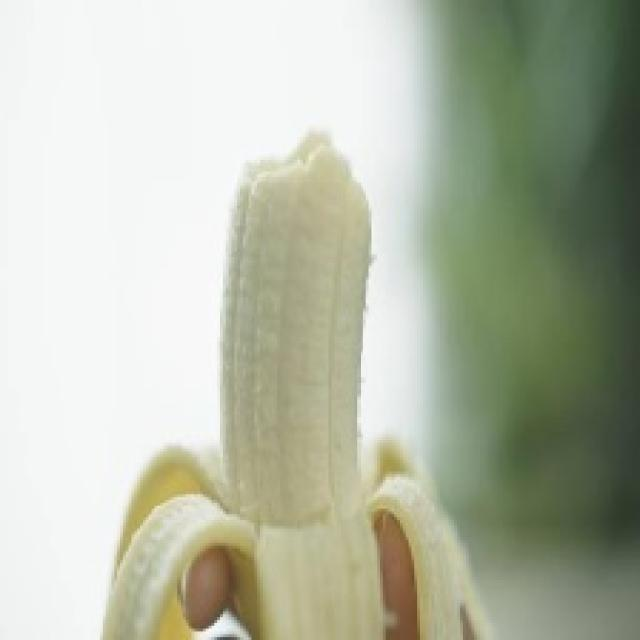Banana: (88, 126, 503, 637)
